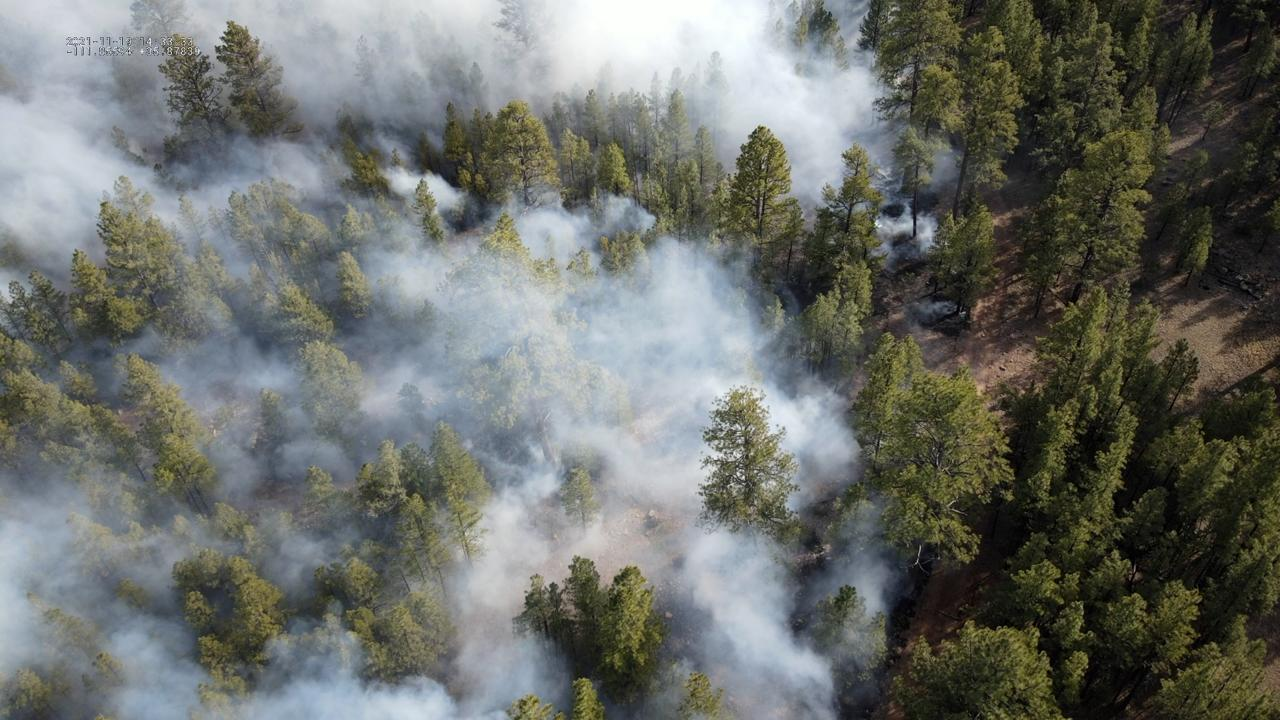smoke: (0, 0, 965, 720)
